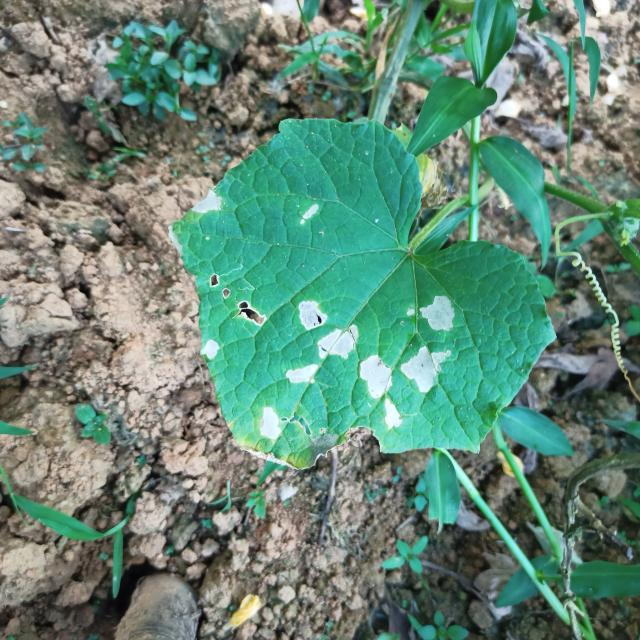disease_cucumber: (298, 299, 360, 360), (359, 354, 403, 431), (208, 271, 266, 328), (399, 343, 452, 394), (405, 294, 456, 332), (257, 404, 283, 440), (190, 189, 223, 215), (285, 361, 319, 385), (298, 202, 320, 225), (200, 338, 220, 360)
